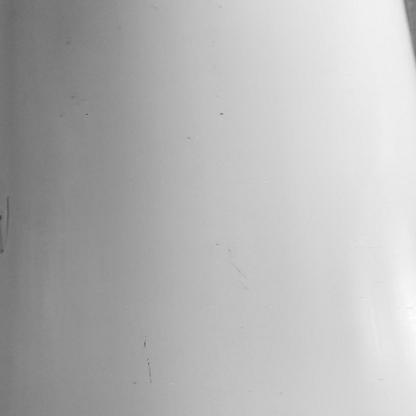fengxi: (1, 197, 9, 253)
